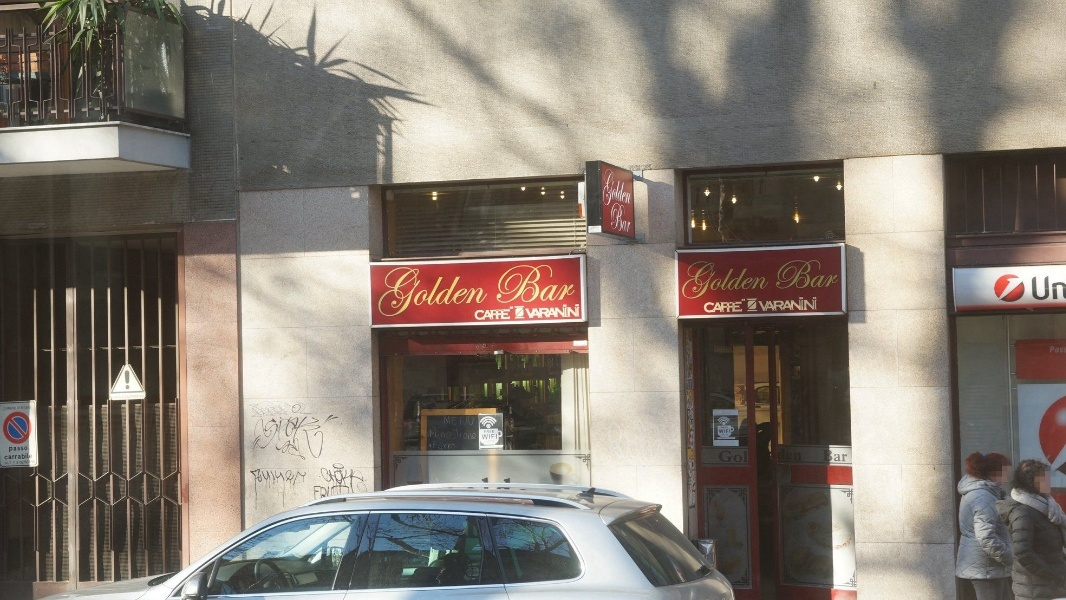text: (385, 266, 400, 317), (401, 266, 416, 317), (417, 266, 432, 317), (433, 266, 448, 317), (449, 266, 464, 317), (465, 266, 480, 317), (257, 416, 272, 462), (273, 416, 288, 462), (289, 416, 304, 462), (305, 416, 320, 462), (513, 263, 528, 304), (529, 263, 544, 304), (545, 263, 560, 304), (561, 263, 576, 304), (609, 168, 624, 206), (689, 262, 704, 300), (705, 262, 720, 300), (721, 262, 736, 300), (737, 262, 752, 300), (753, 262, 768, 300), (499, 263, 512, 304), (321, 467, 336, 498), (337, 467, 352, 498), (353, 467, 368, 498), (785, 260, 800, 289), (801, 260, 816, 289), (817, 260, 832, 289), (481, 266, 489, 317), (1041, 276, 1056, 301), (613, 202, 624, 232), (257, 469, 272, 486), (273, 469, 288, 486), (289, 469, 304, 486), (497, 306, 513, 321), (625, 168, 631, 206), (481, 306, 496, 321), (1031, 276, 1040, 301), (1057, 276, 1066, 301), (801, 297, 817, 311), (529, 304, 544, 318), (545, 304, 560, 318), (561, 304, 576, 318), (625, 202, 632, 232), (769, 297, 784, 311), (785, 297, 800, 311), (705, 299, 720, 313), (721, 299, 736, 313), (833, 260, 840, 289), (721, 449, 736, 462), (433, 428, 448, 440), (449, 428, 464, 440), (785, 449, 800, 461), (833, 450, 848, 462), (778, 260, 784, 289), (449, 416, 464, 426), (465, 428, 477, 440), (737, 449, 748, 462), (758, 297, 768, 311), (321, 416, 324, 462), (321, 486, 330, 501), (737, 299, 746, 313), (434, 442, 448, 450), (823, 450, 832, 462), (17, 453, 32, 460), (250, 469, 256, 486), (314, 486, 320, 501), (465, 416, 474, 426), (17, 406, 31, 412), (482, 434, 496, 440), (3, 406, 16, 412), (5, 453, 16, 460), (606, 168, 608, 206), (769, 262, 771, 300), (17, 460, 32, 465), (1057, 346, 1066, 354), (17, 447, 28, 453), (476, 306, 480, 321), (779, 449, 784, 461), (125, 371, 128, 390), (449, 442, 456, 450), (5, 460, 16, 465), (383, 266, 384, 317), (255, 416, 256, 462), (721, 426, 736, 429), (485, 430, 496, 434), (525, 304, 528, 318), (577, 304, 580, 318), (721, 429, 731, 433), (1051, 346, 1056, 354), (687, 262, 688, 300), (10, 447, 16, 453), (305, 469, 307, 486), (319, 467, 320, 498), (445, 416, 448, 426), (430, 428, 432, 440), (129, 371, 130, 390), (721, 434, 736, 435), (719, 449, 720, 462), (801, 449, 802, 461), (33, 460, 35, 465), (497, 434, 498, 440), (719, 429, 720, 433)
